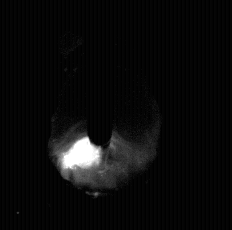arame: (88, 0, 113, 147)
poca: (49, 0, 155, 230)
